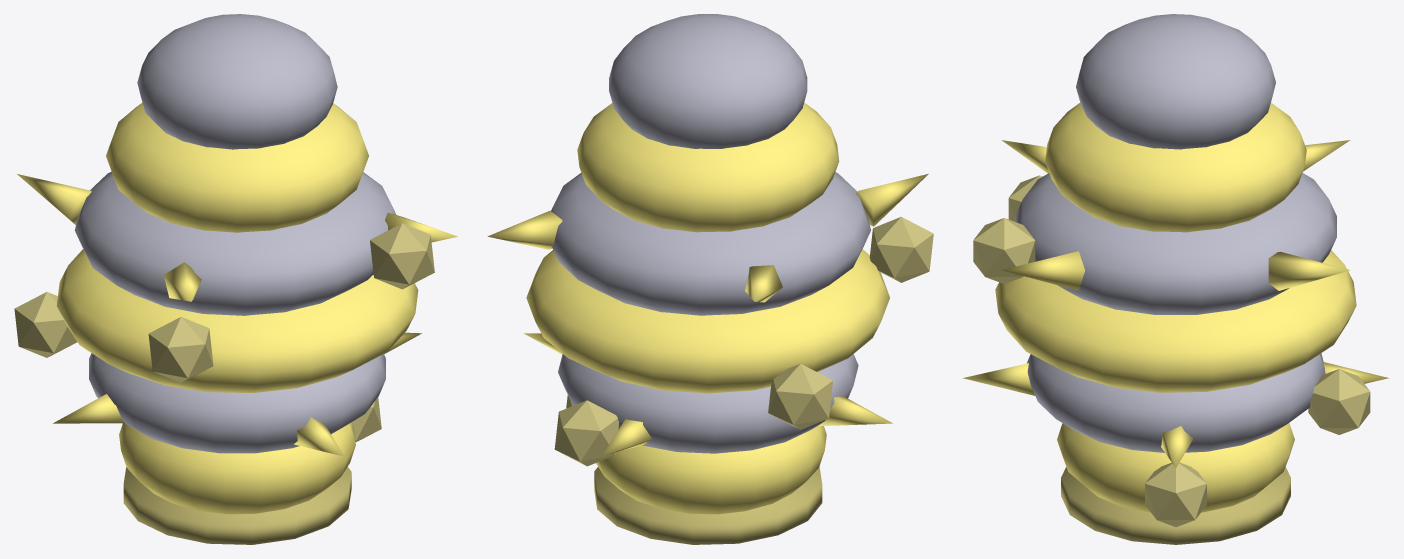
Rendered from egg_storm_01.glb.
3 renders of one model, left to right at view 1: azimuth 30°, elevation 25°; view 2: azimuth 150°, elevation 25°; view 3: azimuth 270°, elevation 25°, orthographic.
Parts seen in each view (by area): view 1: ball; view 2: ball; view 3: ball.
Boxes of the visible parts, left/top/right/bottom form: ball: left=14, top=14, right=457, bottom=544; ball: left=487, top=14, right=933, bottom=544; ball: left=962, top=14, right=1389, bottom=544.
Size of the model in its own units: 0.8182 by 0.99 by 0.8182.
